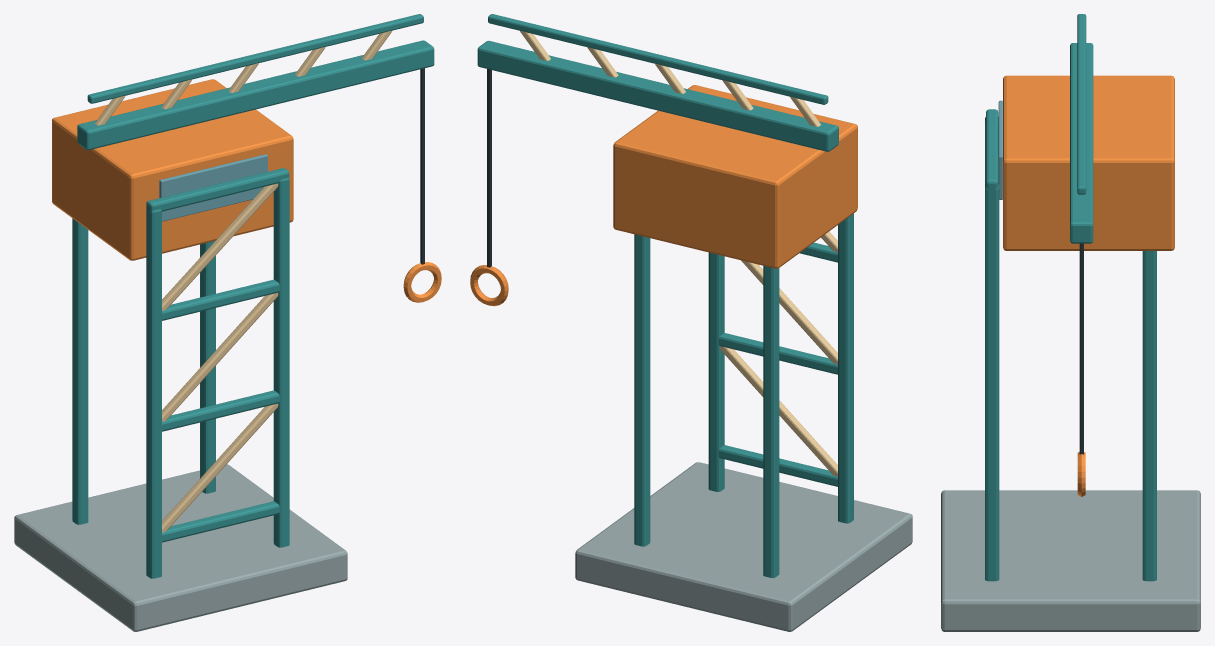
The model's file is S098_crane_tower.glb.
The picture shows the model from 3 angles, left to right: view 1: azimuth 30°, elevation 25°; view 2: azimuth 150°, elevation 25°; view 3: azimuth 270°, elevation 25°; orthographic projection. The views are drawn at different scales.
Parts seen in each view (by area): view 1: crane_base, crane_cabin, fake_crane_boom, crane_tower_leg.002, crane_tower_leg, crane_tower_leg.001, boom_top, crane_window, crane_tower_leg.003, tower_crossrail.003, tower_diagonal.001, tower_diagonal (+6 smaller); view 2: crane_base, crane_cabin, fake_crane_boom, crane_tower_leg.001, crane_tower_leg.003, crane_tower_leg, crane_tower_leg.002, boom_top, tower_diagonal, tower_crossrail.001, tower_crossrail, tower_diagonal.001 (+2 smaller); view 3: crane_base, crane_cabin, crane_tower_leg.002, crane_tower_leg.003, fake_crane_boom, boom_top, hook_rope, tower_crossrail.003, crane_window, foam_hook.
Boxes of the visible parts, x1,y1,x2,y2 form: crane_base: (14,464,347,631); crane_cabin: (52,79,293,260); fake_crane_boom: (77,40,434,150); crane_tower_leg.002: (273,177,289,547); crane_tower_leg: (146,208,161,578); crane_tower_leg.001: (72,218,88,524); boom_top: (87,14,423,103); crane_window: (159,154,267,221); crane_tower_leg.003: (200,241,215,493); tower_crossrail.003: (146,168,289,211); tower_diagonal.001: (162,293,278,421); tower_diagonal: (162,403,278,532); crane_base: (575,462,912,631); crane_cabin: (613,85,857,268); fake_crane_boom: (477,40,838,151); crane_tower_leg.001: (763,266,779,578); crane_tower_leg.003: (634,234,650,546); crane_tower_leg: (838,213,853,523); crane_tower_leg.002: (708,252,724,491); boom_top: (488,14,828,104); tower_diagonal: (720,346,837,476); tower_crossrail.001: (718,333,853,374); tower_crossrail: (718,445,853,486); tower_diagonal.001: (741,260,837,364); crane_base: (941,490,1200,631); crane_cabin: (1003,75,1174,250); crane_tower_leg.002: (985,183,999,581); crane_tower_leg.003: (1142,251,1156,581); fake_crane_boom: (1070,43,1093,243); boom_top: (1077,14,1086,194); hook_rope: (1079,243,1083,454); tower_crossrail.003: (986,109,998,189); crane_window: (998,100,1002,199); foam_hook: (1077,452,1085,496).
Size of the model in its own units: 2.57 by 3.2 by 1.45.
